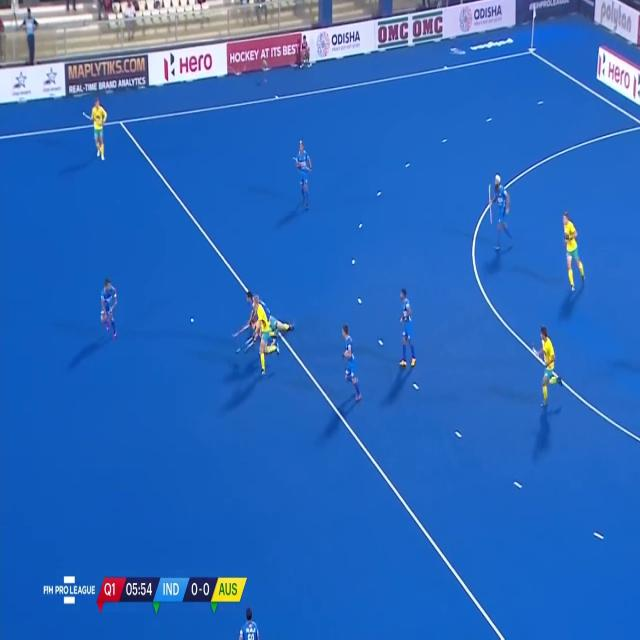ball: (189, 314, 195, 326)
